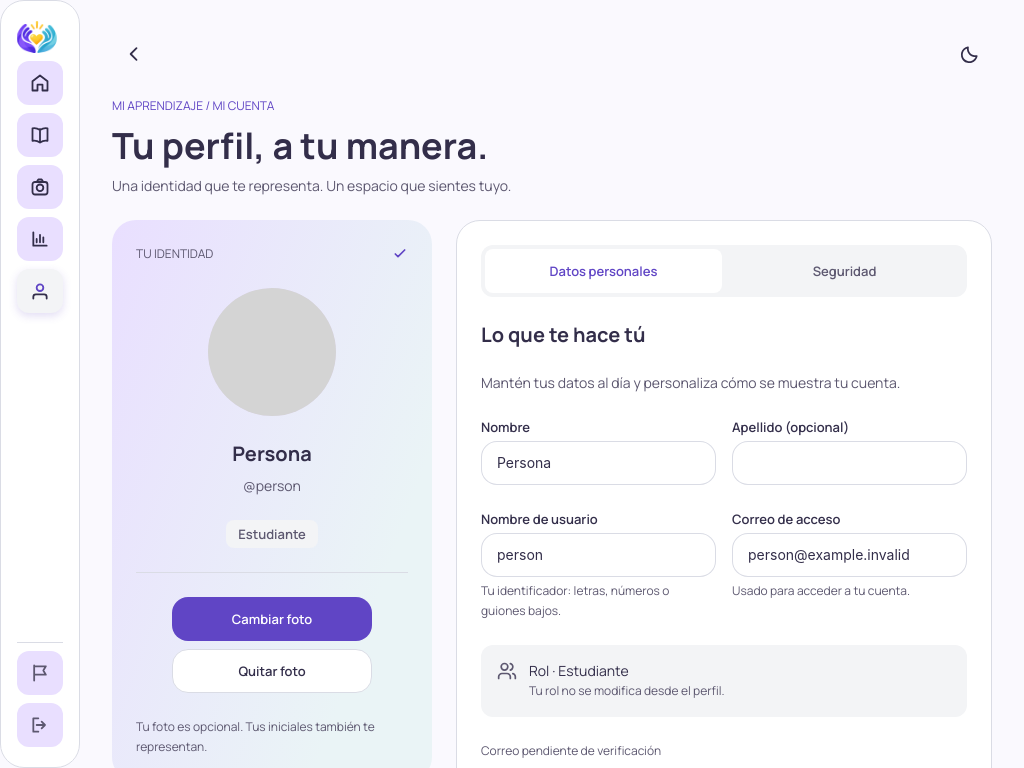
Test case: USER: quitar foto enfoca conservar y cancelar no envía eliminación
This screenshot has width=1024, height=768.
Step 1. Click the button "Quitar foto" → (272, 672), box [172,650,372,694]
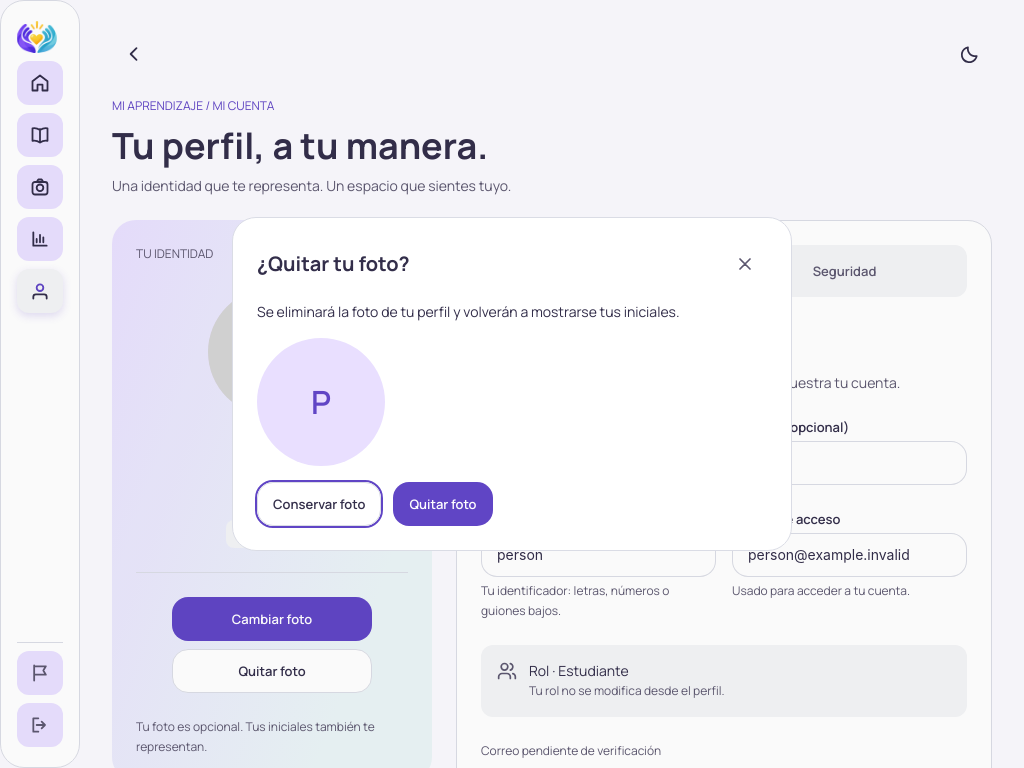
Step 2. Click the button "Conservar foto" → (319, 504), box [257,482,381,526]
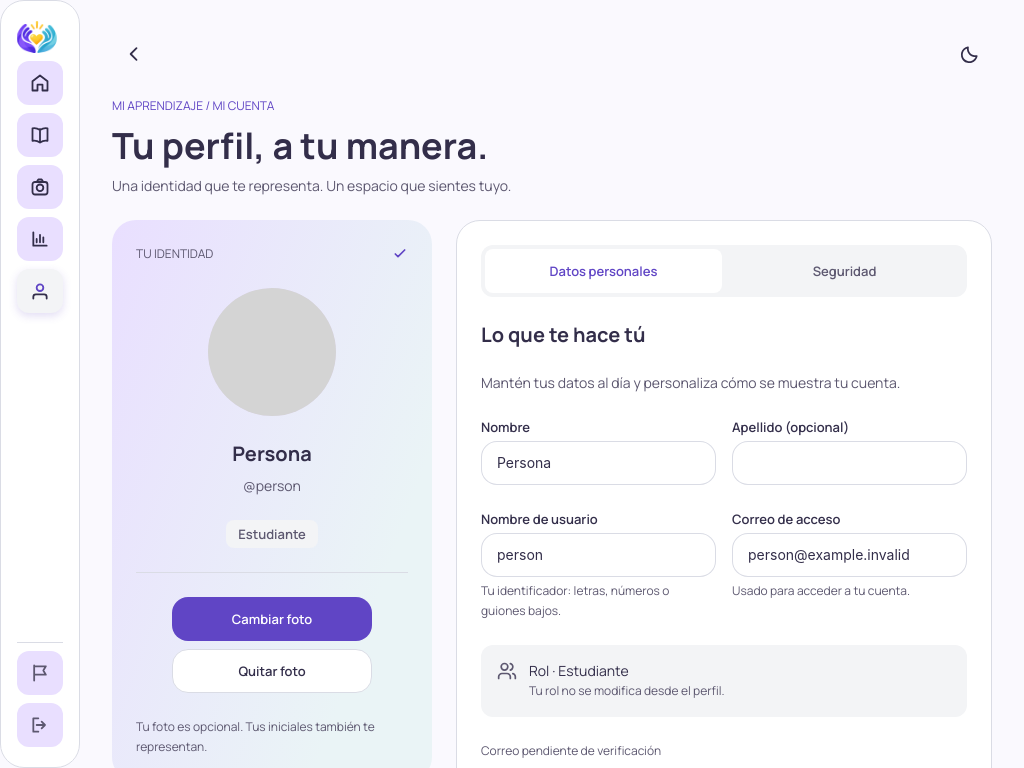
Check: the dialog is gone
